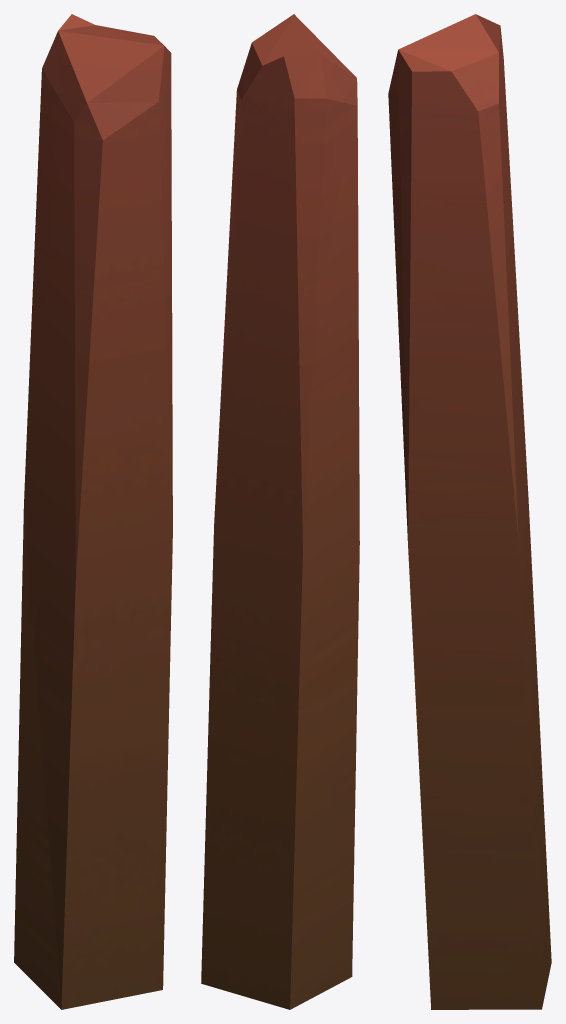
3 renders of one model, left to right at view 1: azimuth 30°, elevation 25°; view 2: azimuth 150°, elevation 25°; view 3: azimuth 270°, elevation 25°, orthographic. The views are drawn at different scales.
Visible parts, largest first — view 1: WoodenPole1; view 2: WoodenPole1; view 3: WoodenPole1.
Boxes of the visible parts, x1,y1,x2,y2 form: WoodenPole1: [14, 14, 172, 1009]; WoodenPole1: [201, 14, 359, 1009]; WoodenPole1: [388, 14, 551, 1009].
Size of the model in its own units: 4.34 by 38 by 5.88.
1 material, 1 textured.
